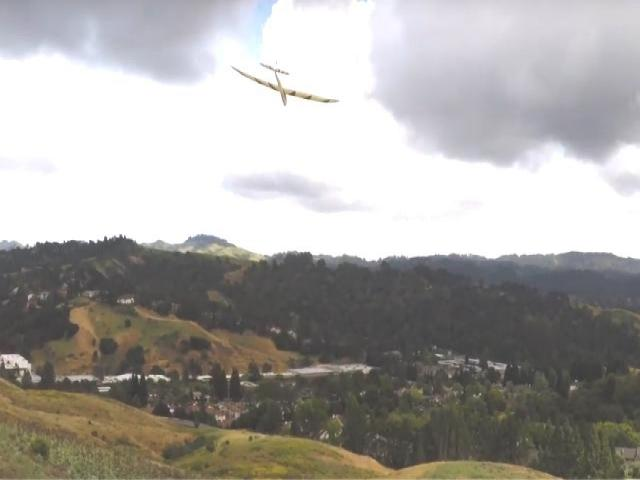iha: (224, 46, 340, 110)
